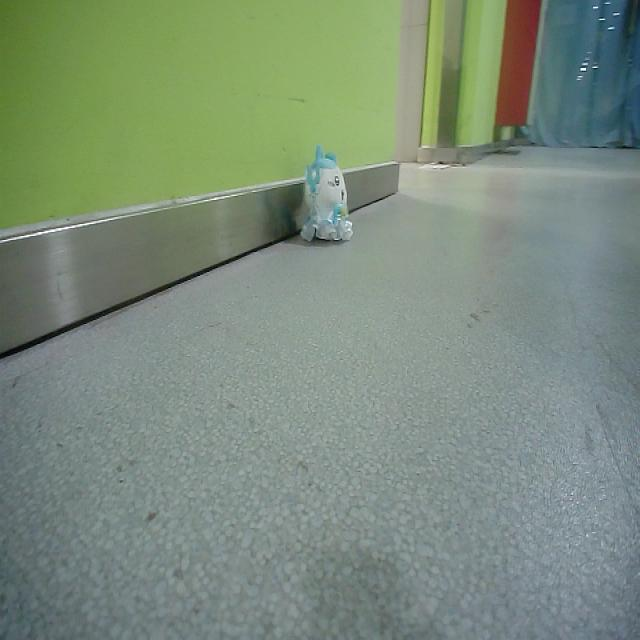xiaoba: (297, 150, 353, 244)
